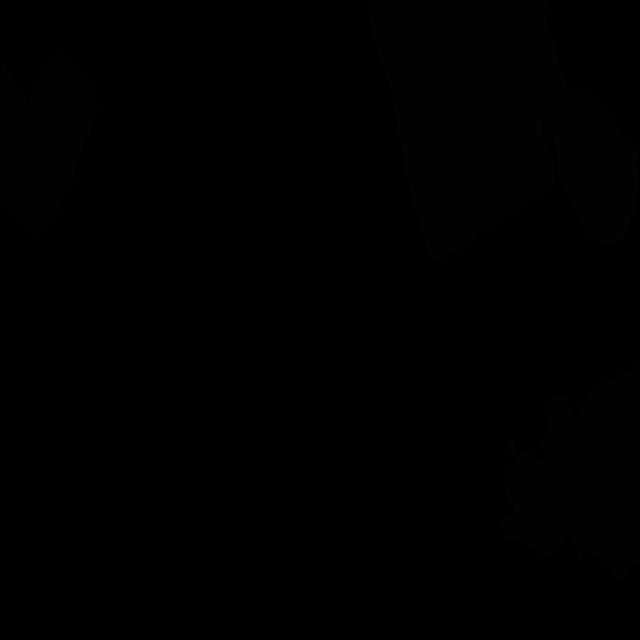cardboard: (366, 0, 588, 262), (502, 364, 640, 581), (0, 52, 97, 235), (557, 92, 639, 243)
